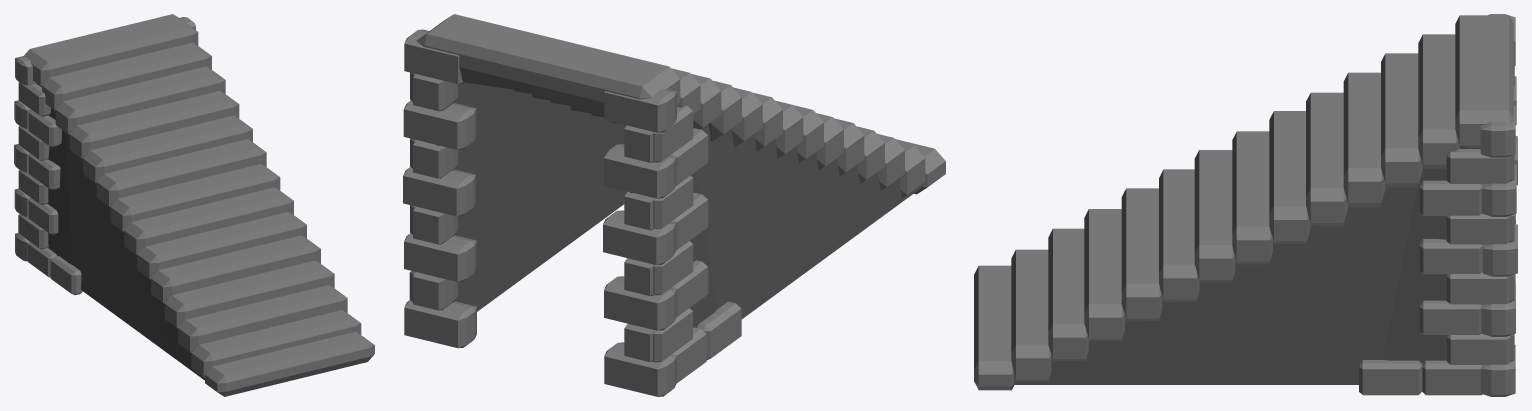
File: DungeonStairsSmall.fbx
3 views of the same model, side by side, from view 1: azimuth 30°, elevation 25°; view 2: azimuth 150°, elevation 25°; view 3: azimuth 270°, elevation 25° (orthographic). The views are drawn at different scales.
Visible parts, largest first — view 1: DungeonStairsSmall; view 2: DungeonStairsSmall; view 3: DungeonStairsSmall.
Boxes of the visible parts, box(x1,y1,x2,y2) form: DungeonStairsSmall: box(14, 14, 374, 396); DungeonStairsSmall: box(403, 14, 945, 396); DungeonStairsSmall: box(974, 14, 1517, 396).
Bounding box in the file's own units: 340 × 385 × 679.
Materials: 1 (1 with a texture image).
